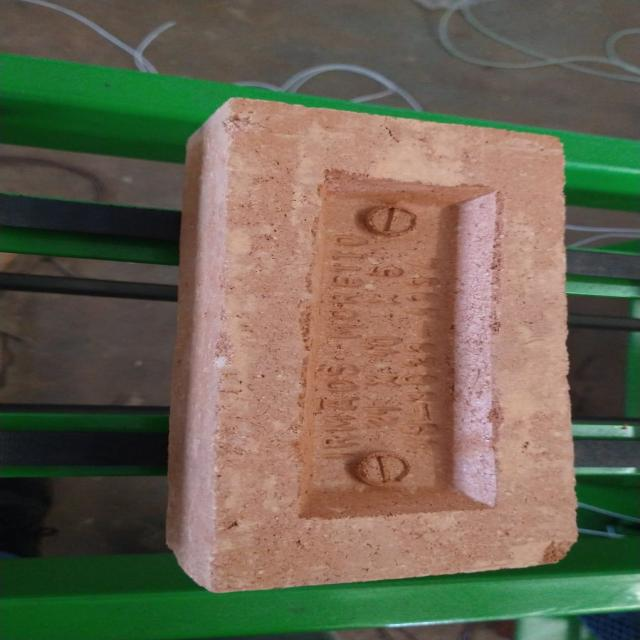bricks: (166, 97, 575, 593)
